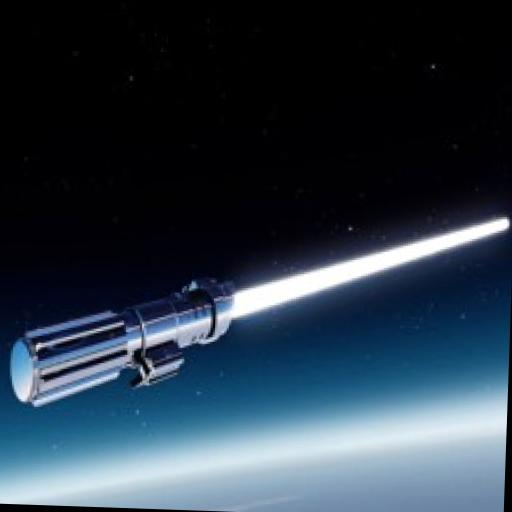lightsaber: (2, 194, 512, 430)
